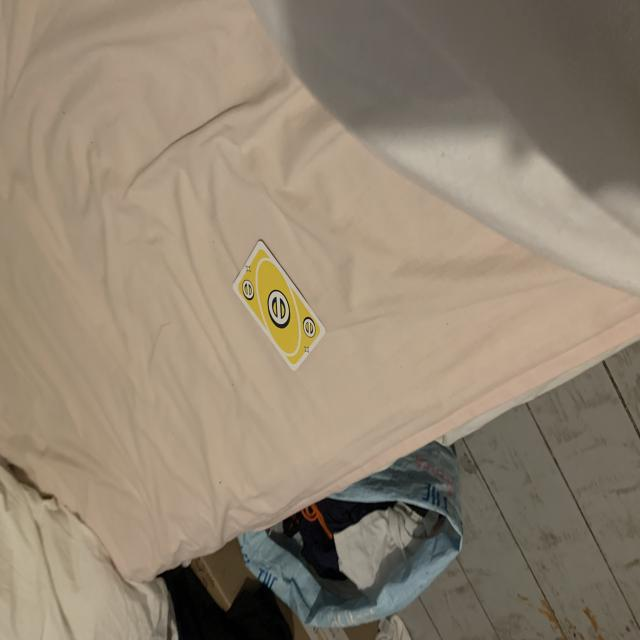lyellowskip-20: (241, 277, 257, 303)
